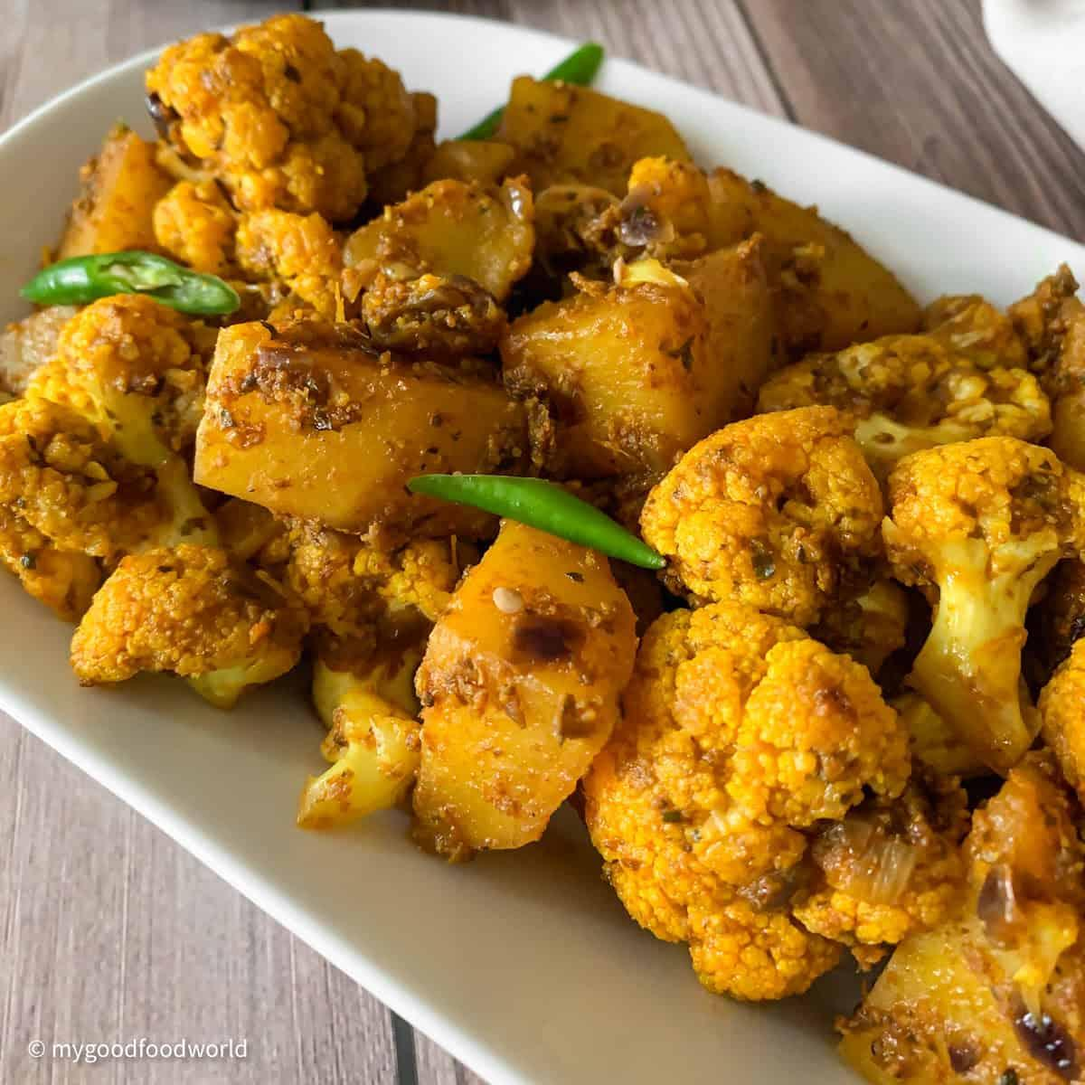aloo gobhi: (19, 43, 1085, 1015)
